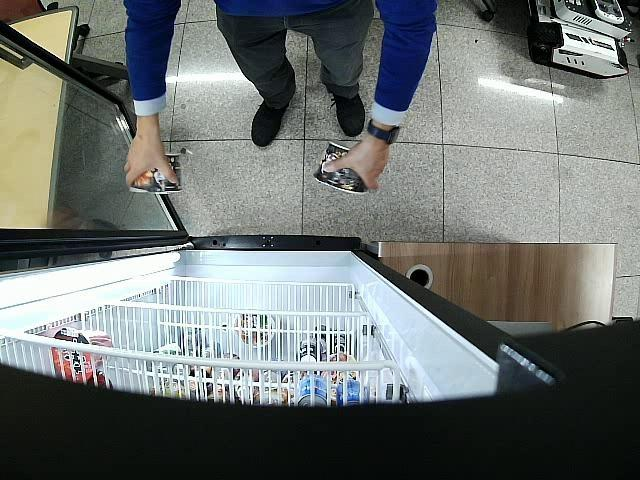07_buldak_L: (314, 141, 368, 194), (130, 154, 182, 193)
